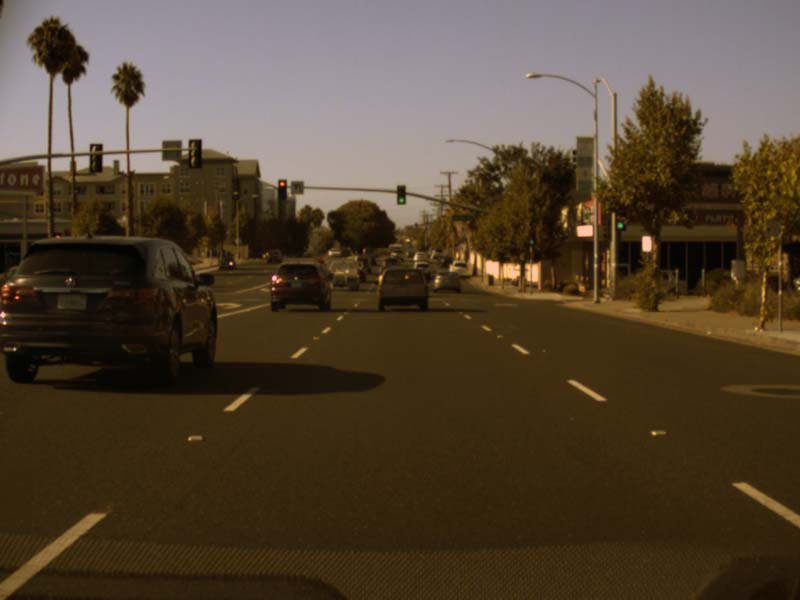Green: (615, 207, 625, 229), (396, 184, 405, 204), (527, 230, 534, 244)
Red: (278, 179, 286, 199)
